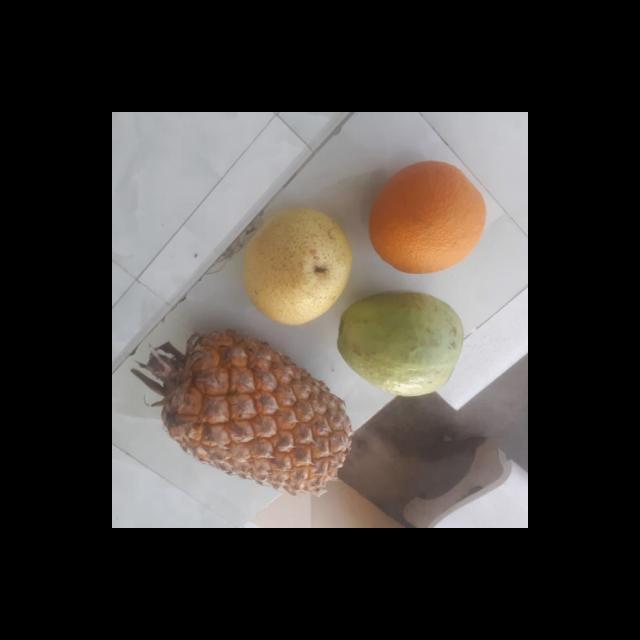guava: (332, 292, 461, 394)
orange: (362, 162, 485, 280)
pear: (235, 207, 352, 324)
pineapple: (154, 328, 343, 488)
